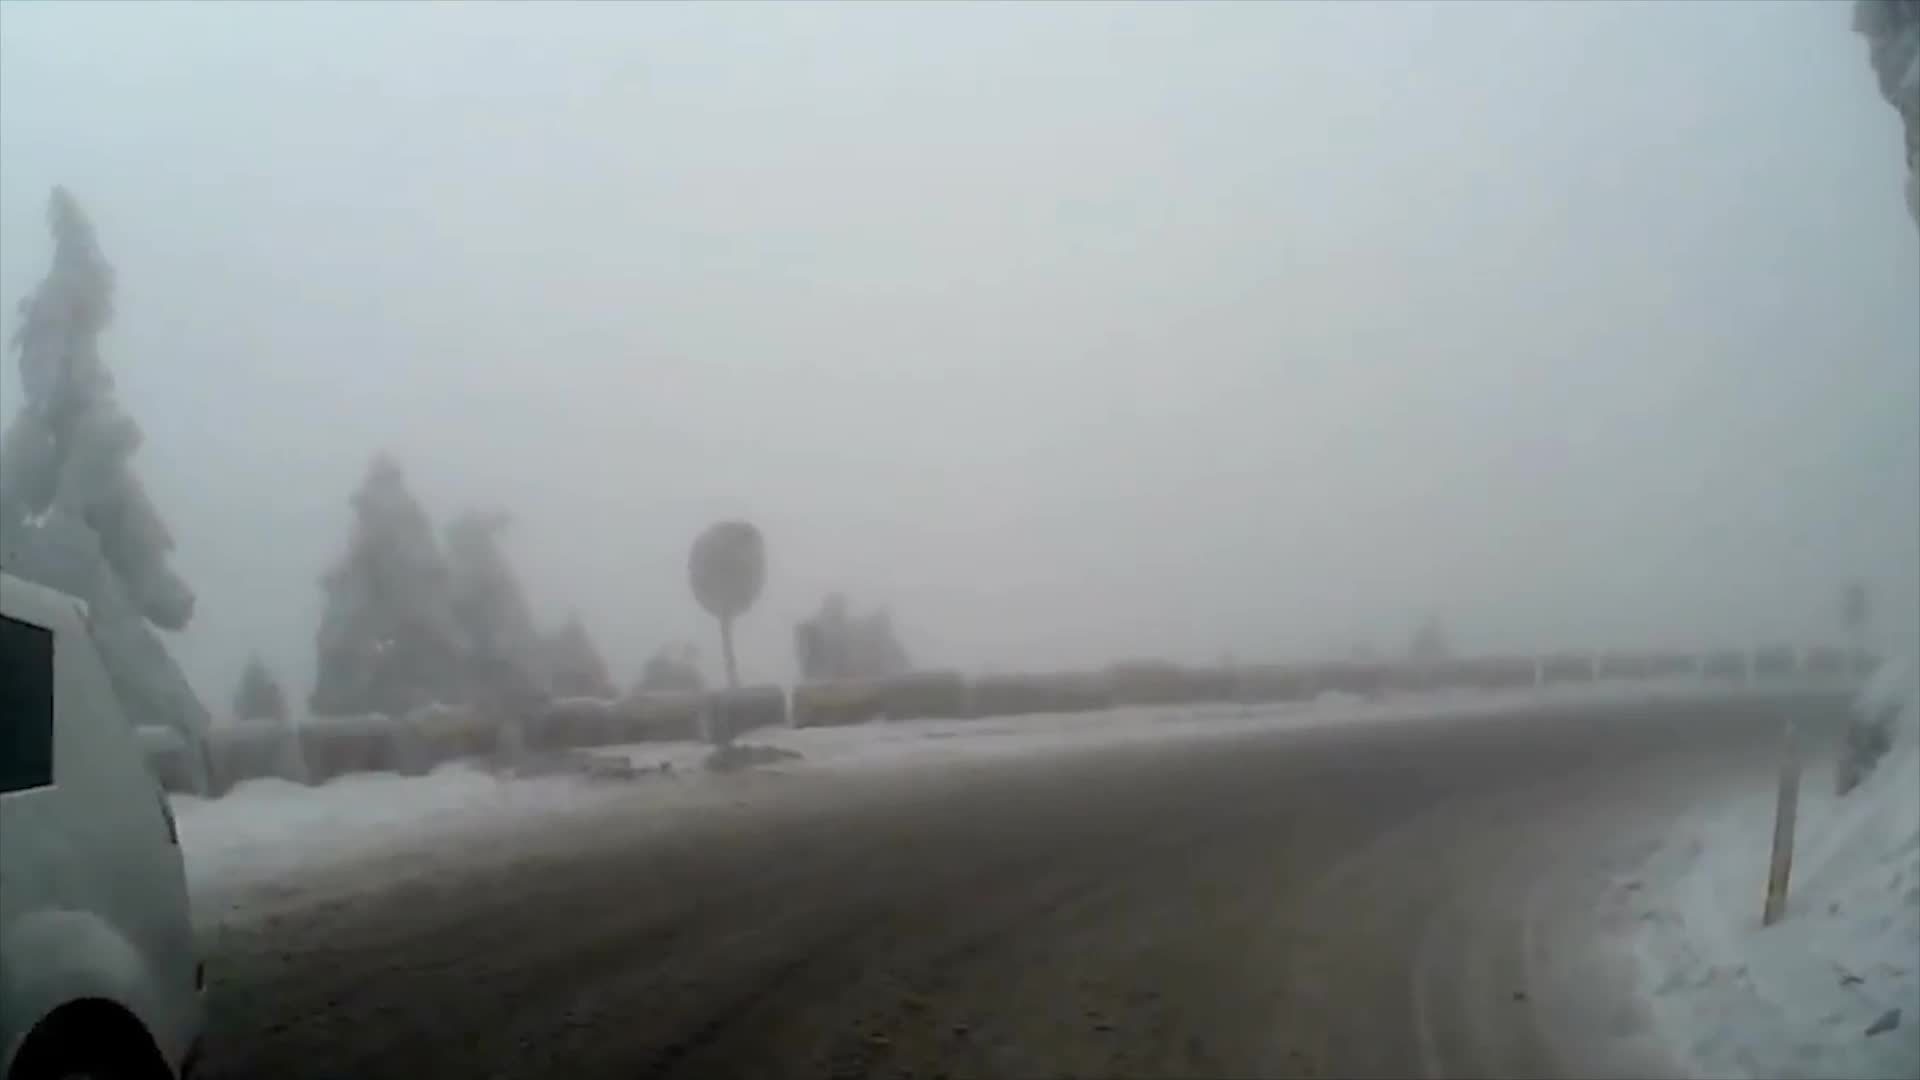vehicle: (0, 545, 206, 1080)
